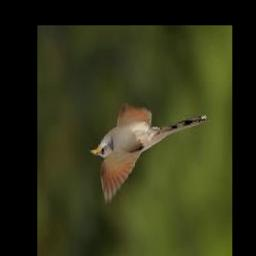Cuckoo: (90, 108, 206, 202)
